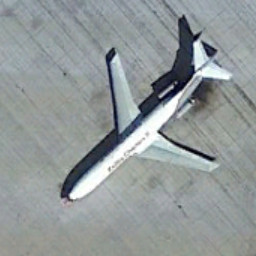Airplane: (36, 17, 248, 218)
